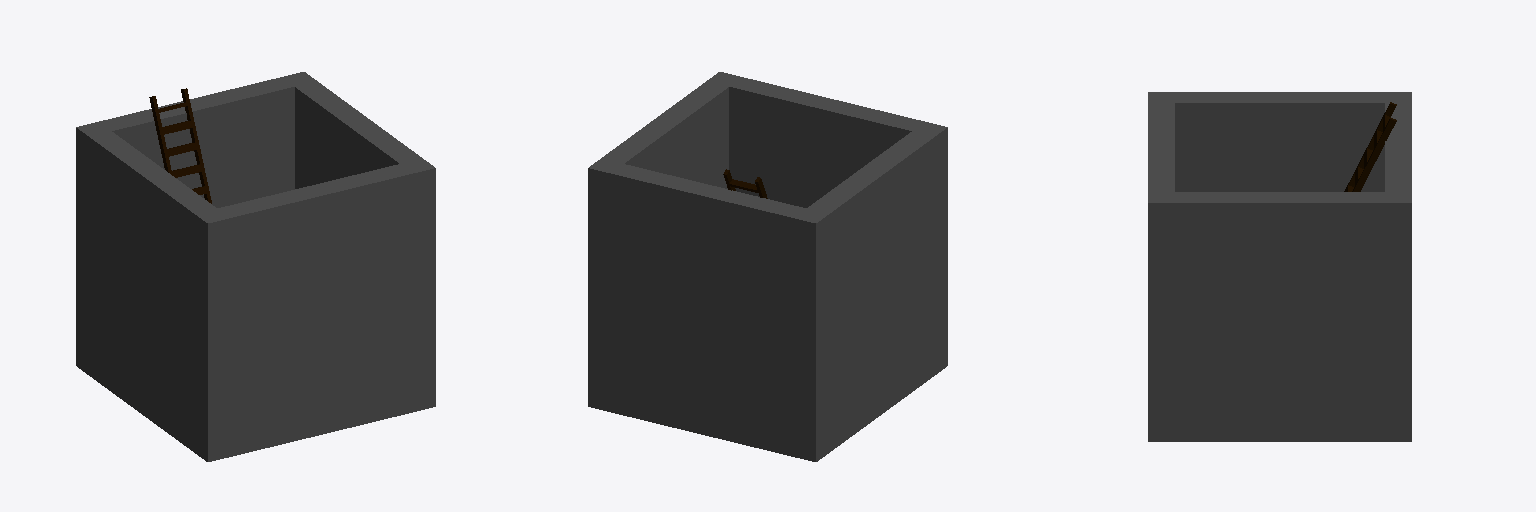
File: Quarry3.obj
3 views of the same model, side by side, from view 1: azimuth 30°, elevation 25°; view 2: azimuth 150°, elevation 25°; view 3: azimuth 270°, elevation 25° (orthographic).
Visible parts, largest first — view 1: Tilebase120, Ladder001; view 2: Tilebase120; view 3: Tilebase120, Ladder001.
Boxes of the visible parts, x1,y1,x2,y2 form: Tilebase120: [76, 72, 435, 461]; Ladder001: [149, 88, 211, 203]; Tilebase120: [588, 72, 947, 461]; Tilebase120: [1148, 92, 1411, 441]; Ladder001: [1344, 102, 1396, 191].
Size of the model in its own units: 10 by 10.92 by 10.